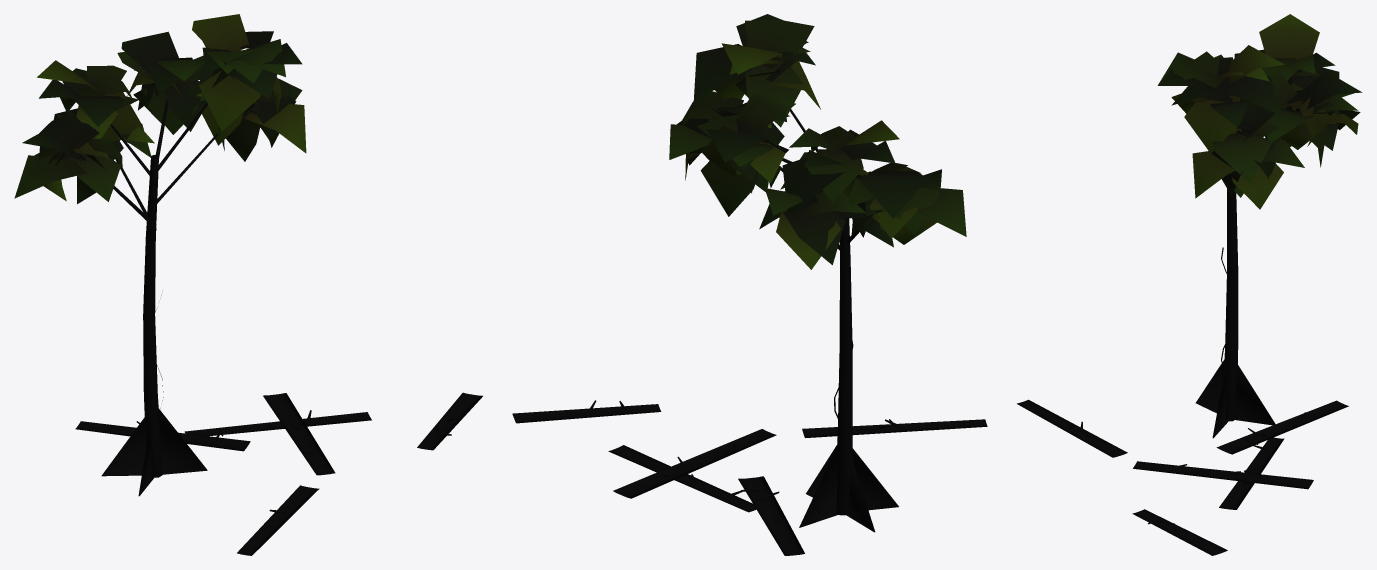
File: patch_deadfall_far.glb
3 renders of one model, left to right at view 1: azimuth 30°, elevation 25°; view 2: azimuth 150°, elevation 25°; view 3: azimuth 270°, elevation 25°, orthographic. The views are drawn at different scales.
Parts seen in each view (by area): view 1: patch_deadfall_far; view 2: patch_deadfall_far; view 3: patch_deadfall_far.
Boxes of the visible parts, left/top/right/bottom form: patch_deadfall_far: left=14, top=14, right=482, bottom=555; patch_deadfall_far: left=512, top=14, right=987, bottom=555; patch_deadfall_far: left=1017, top=14, right=1362, bottom=555.
Size of the model in its own units: 12.85 by 11.74 by 9.29.
Materials: 1 (1 with a texture image).
